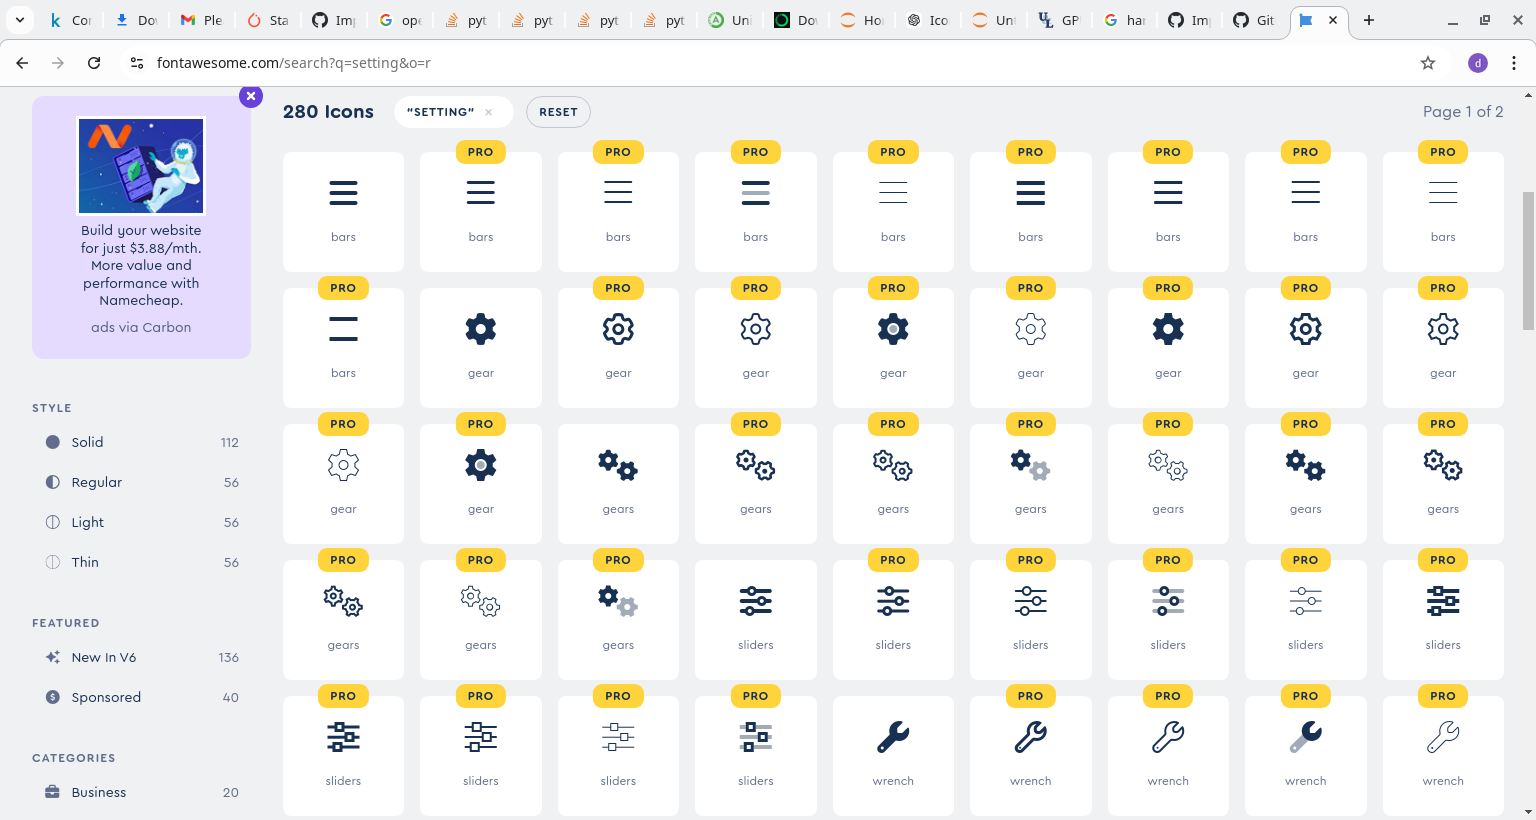setting: (314, 438, 371, 493), (452, 302, 507, 355), (1276, 303, 1333, 354), (1001, 303, 1057, 354), (863, 305, 916, 355), (1140, 302, 1193, 352), (591, 307, 642, 351), (729, 307, 777, 349), (1421, 309, 1465, 351), (455, 443, 499, 485)
